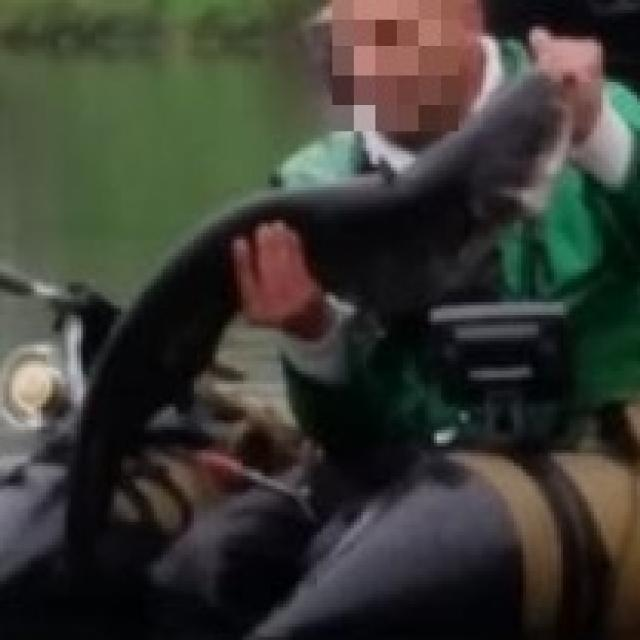Catfish: (36, 86, 604, 554)
